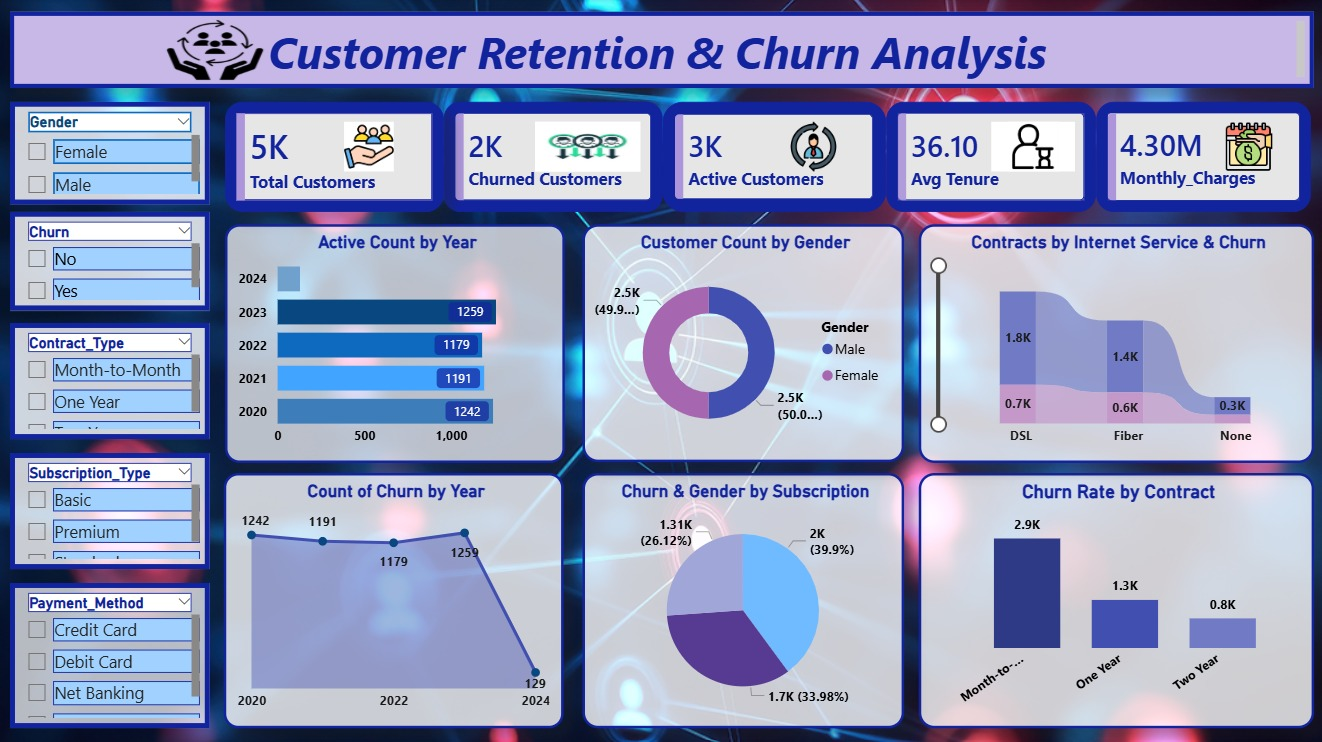

This screenshot's page, from the dashboard's own definition file:
{"tool":"powerbi","page":{"name":"Page 1","canvas":[1280,720],"ordinal":0},"visuals":[{"type":"textbox","box":[9.7,13.3,1258.3,73.6],"z":0},{"type":"clusteredBarChart","title":"Active Count by Year","fields":{"Category":["churn data.Join_Date.Variation.Date Hierarchy.Year","churn data.Join_Date.Variation.Date Hierarchy.Quarter","churn data.Join_Date.Variation.Date Hierarchy.Month","churn data.Join_Date.Variation.Date Hierarchy.Day"],"Y":["CountNonNull(churn data.Last_Active_Date)"]},"box":[217.2,218.4,328.2,230.4],"z":1000},{"type":"slicer","fields":{"Values":["churn data.Gender"]},"box":[9.7,100.1,193,98.9],"z":2000},{"type":"slicer","fields":{"Values":["churn data.Churn"]},"box":[9.7,206.3,193,95.3],"z":3000},{"type":"slicer","fields":{"Values":["churn data.Subscription_Type"]},"box":[9.7,439.1,193,112.2],"z":4000},{"type":"slicer","fields":{"Values":["churn data.Contract_Type"]},"box":[9.7,313.7,193,112.2],"z":5000},{"type":"slicer","fields":{"Values":["churn data.Payment_Method"]},"box":[9.7,564.6,193,139.9],"z":6000},{"type":"clusteredColumnChart","title":"Churn Rate by Contract","fields":{"Y":["CountNonNull(churn data.Join_Date)"],"Category":["churn data.Contract_Type"]},"box":[886.7,458.4,381.2,246.1],"z":7000},{"type":"pieChart","title":"Churn & Gender by Subscription","fields":{"Y":["CountNonNull(churn data.Gender)"],"Category":["churn data.Subscription_Type"]},"box":[562.2,458.4,310.1,246.1],"z":8000},{"type":"donutChart","title":"Customer Count by Gender","fields":{"Y":["CountNonNull(churn data.CustomerID)"],"Category":["churn data.Gender"]},"box":[562.2,218.4,310.1,229.2],"z":9000},{"type":"lineChart","fields":{"Category":["churn data.Join_Date.Variation.Date Hierarchy.Year","churn data.Join_Date.Variation.Date Hierarchy.Quarter","churn data.Join_Date.Variation.Date Hierarchy.Month","churn data.Join_Date.Variation.Date Hierarchy.Day"],"Y":["CountNonNull(churn data.Churn)"]},"box":[216,458.4,328.2,246.1],"z":10000},{"type":"ribbonChart","title":"Contracts by Internet Service & Churn","fields":{"Series":["churn data.Churn"],"Y":["CountNonNull(churn data.Contract_Type)"],"Category":["churn data.Internet_Service"]},"box":[886.7,218.4,381.2,230.4],"z":11000},{"type":"image","box":[147.2,13.3,120.6,73.6],"z":12000},{"type":"cardVisual","fields":{"Data":["Sum(churn data.Churned Customers)"]},"box":[428.3,100.1,211.1,106.2],"z":13000},{"type":"cardVisual","fields":{"Data":["churn data.Active Customers"]},"box":[639.4,100.1,216,106.2],"z":14000},{"type":"cardVisual","fields":{"Data":["churn data.Avg Tenure"]},"box":[855.4,100.1,202.7,106.2],"z":15000},{"type":"cardVisual","fields":{"Data":["Sum(churn data.Monthly_Charges)"]},"box":[1058,100.1,207.5,106.2],"z":16000},{"type":"cardVisual","fields":{"Data":["churn data.Total Customers"]},"box":[217.2,100.1,211.1,106.2],"z":17000},{"type":"image","box":[311.3,119.4,89.3,48.3],"z":18000},{"type":"image","box":[516.4,119.4,101.3,48.3],"z":19000},{"type":"image","box":[739.5,119.4,91.7,48.3],"z":20000},{"type":"image","box":[956.7,119.4,80.8,48.3],"z":21000},{"type":"image","box":[1172.7,119.4,67.6,48.3],"z":22000}]}

Visuals, with their boxes in screenshot pixels (x1, y1, x2, y2), scaled from the page's 1280x720 canvas onto the 1322x742 screenshot:
textbox: box=[10, 14, 1310, 90]
"Active Count by Year" clusteredBarChart: box=[224, 225, 563, 463]
slicer - churn data.Gender: box=[10, 103, 209, 205]
slicer - churn data.Churn: box=[10, 213, 209, 311]
slicer - churn data.Subscription_Type: box=[10, 453, 209, 568]
slicer - churn data.Contract_Type: box=[10, 323, 209, 439]
slicer - churn data.Payment_Method: box=[10, 582, 209, 726]
"Churn Rate by Contract" clusteredColumnChart: box=[916, 472, 1310, 726]
"Churn & Gender by Subscription" pieChart: box=[581, 472, 901, 726]
"Customer Count by Gender" donutChart: box=[581, 225, 901, 461]
lineChart - churn data.Join_Date.Variation.Date Hierarchy.Year x churn data.Join_Date.Variation.Date Hierarchy.Quarter: box=[223, 472, 562, 726]
"Contracts by Internet Service & Churn" ribbonChart: box=[916, 225, 1310, 463]
image: box=[152, 14, 277, 90]
cardVisual - Sum(churn data.Churned Customers): box=[442, 103, 660, 213]
cardVisual - churn data.Active Customers: box=[660, 103, 883, 213]
cardVisual - churn data.Avg Tenure: box=[883, 103, 1093, 213]
cardVisual - Sum(churn data.Monthly_Charges): box=[1093, 103, 1307, 213]
cardVisual - churn data.Total Customers: box=[224, 103, 442, 213]
image: box=[322, 123, 414, 173]
image: box=[533, 123, 638, 173]
image: box=[764, 123, 858, 173]
image: box=[988, 123, 1072, 173]
image: box=[1211, 123, 1281, 173]
